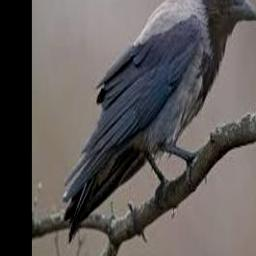Crow: (63, 0, 256, 242)
